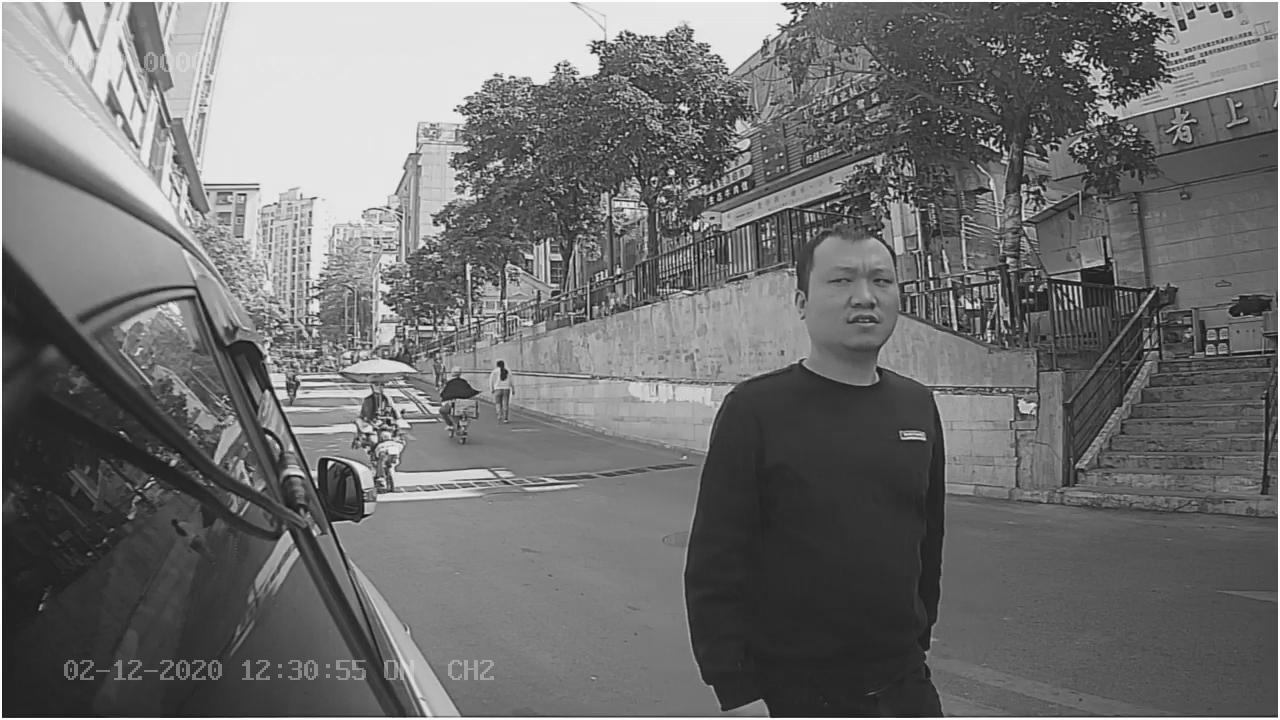person: (679, 217, 952, 557)
